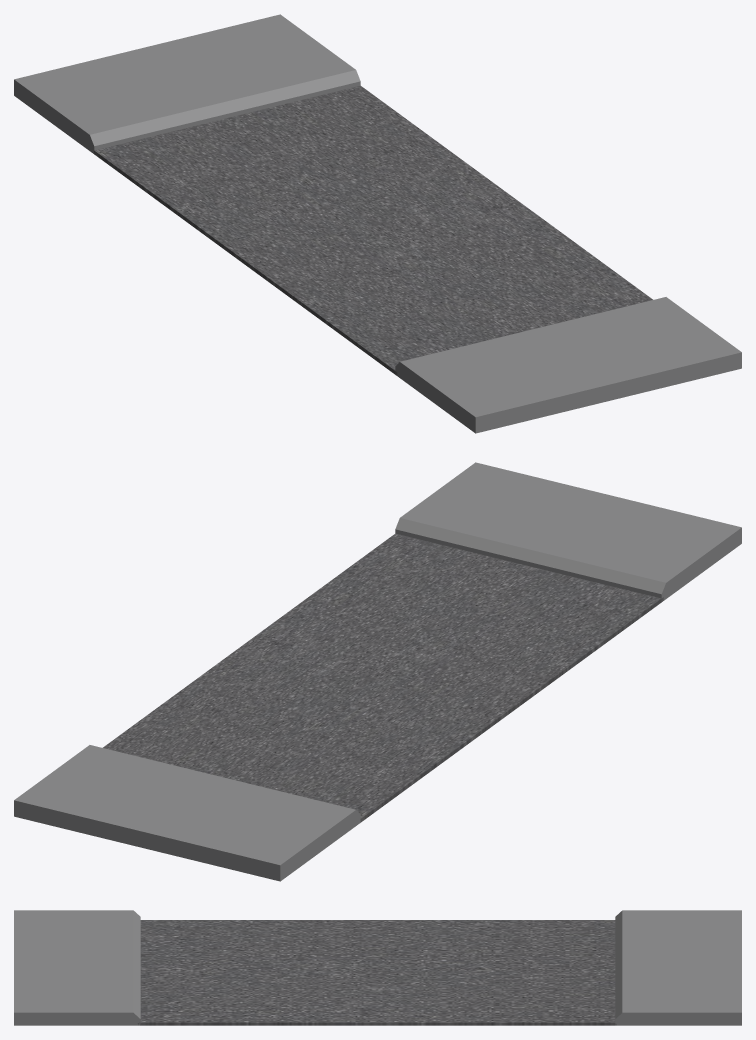
Rendered from obj_rode_1.fbx.
3 renders of one model, top to bottom at view 1: azimuth 30°, elevation 25°; view 2: azimuth 150°, elevation 25°; view 3: azimuth 270°, elevation 25°, orthographic. The views are drawn at different scales.
Parts seen in each view (by area): view 1: obj_rode_1; view 2: obj_rode_1; view 3: obj_rode_1.
Part boxes in pixels (x1,y1,x2,y2): obj_rode_1: (14, 14, 741, 433); obj_rode_1: (14, 462, 741, 881); obj_rode_1: (14, 910, 741, 1025).
Size of the model in its own units: 4.71 by 0.2756 by 14.15.
1 material, 1 textured.
